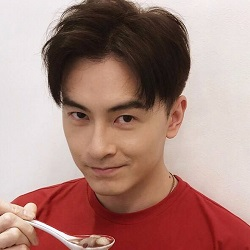unmask: (50, 65, 176, 197)
